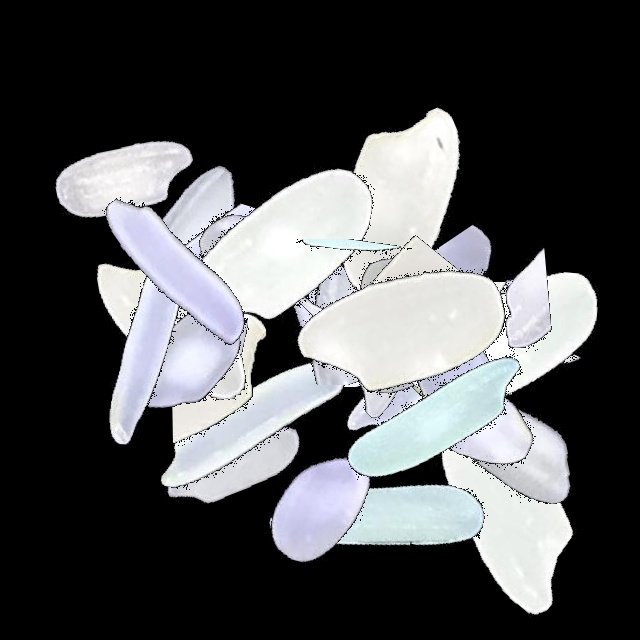Broken: (340, 252, 512, 502), (207, 213, 457, 385), (123, 159, 295, 409), (121, 211, 371, 383), (115, 235, 282, 485), (316, 198, 477, 448), (118, 245, 368, 400), (166, 218, 416, 361), (340, 282, 590, 419), (172, 261, 297, 511), (409, 175, 532, 425), (222, 266, 472, 387), (364, 234, 614, 352), (218, 239, 468, 348), (313, 183, 416, 433), (135, 171, 235, 421), (388, 330, 638, 424), (44, 263, 294, 356), (222, 193, 472, 281), (162, 252, 246, 502), (295, 155, 378, 405), (113, 324, 363, 407), (47, 236, 297, 315), (170, 194, 248, 444)
Full: (108, 344, 358, 594), (69, 180, 319, 430), (1, 52, 251, 302), (383, 385, 633, 635), (127, 298, 377, 548), (339, 230, 589, 480), (308, 239, 558, 489), (269, 221, 519, 471), (309, 215, 559, 465), (252, 387, 502, 637), (64, 104, 314, 354), (390, 328, 640, 578), (296, 220, 546, 470), (377, 208, 627, 458), (278, 84, 528, 334), (47, 204, 297, 454), (269, 191, 519, 441), (333, 264, 583, 514), (61, 233, 311, 483), (21, 220, 271, 470), (195, 385, 445, 635), (353, 300, 603, 550), (155, 117, 405, 367), (313, 295, 563, 545), (50, 144, 300, 394), (280, 205, 530, 455)
